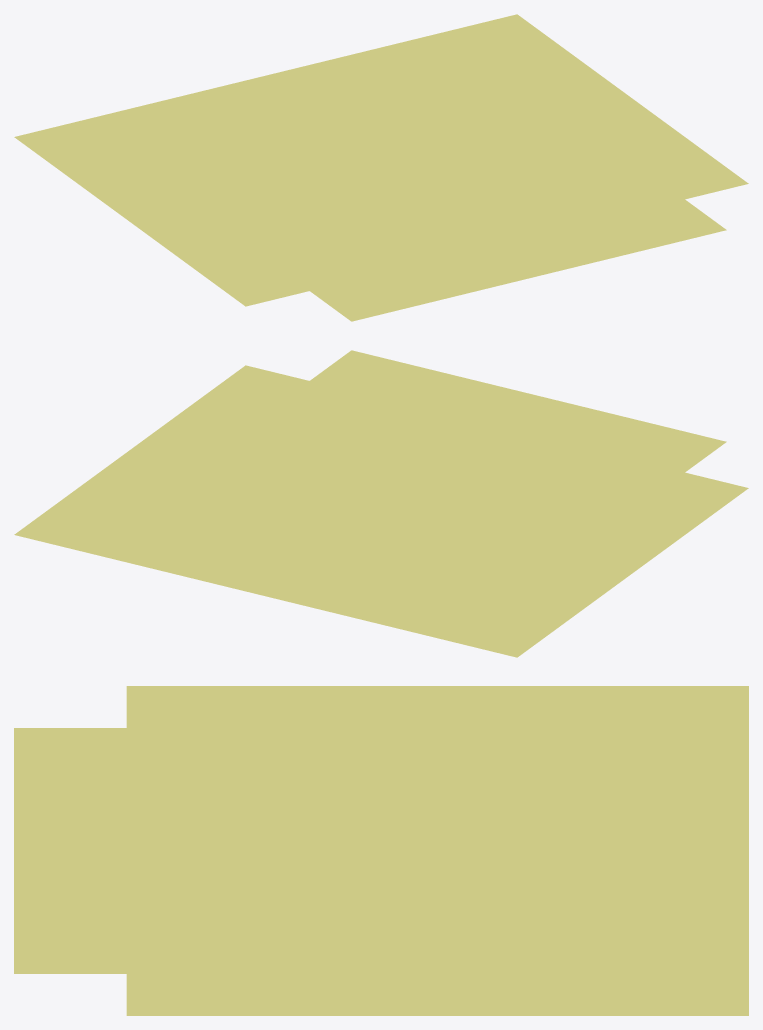
Rendered from ByakkoStage5FinalBoss.fbx.
3 renders of one model, top to bottom at view 1: azimuth 30°, elevation 25°; view 2: azimuth 150°, elevation 25°; view 3: azimuth 270°, elevation 25°, orthographic. The views are drawn at different scales.
Parts seen in each view (by area): view 1: Plane.028; view 2: Plane.028; view 3: Plane.028.
Boxes of the visible parts, x1=… form: Plane.028: x1=14, y1=14, x2=748, y2=321; Plane.028: x1=14, y1=350, x2=748, y2=657; Plane.028: x1=14, y1=686, x2=748, y2=1015.
Size of the model in its own units: 80.58 by 1.24e-05 by 75.88.
